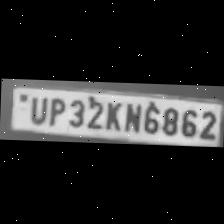2: (196, 105, 217, 138), (84, 96, 104, 129)
3: (65, 94, 85, 125)
6: (140, 100, 160, 133), (178, 105, 197, 136)
8: (160, 103, 178, 135)
K: (102, 97, 122, 130)
N: (121, 97, 141, 132)
P: (45, 94, 65, 124)
U: (26, 92, 46, 122)
